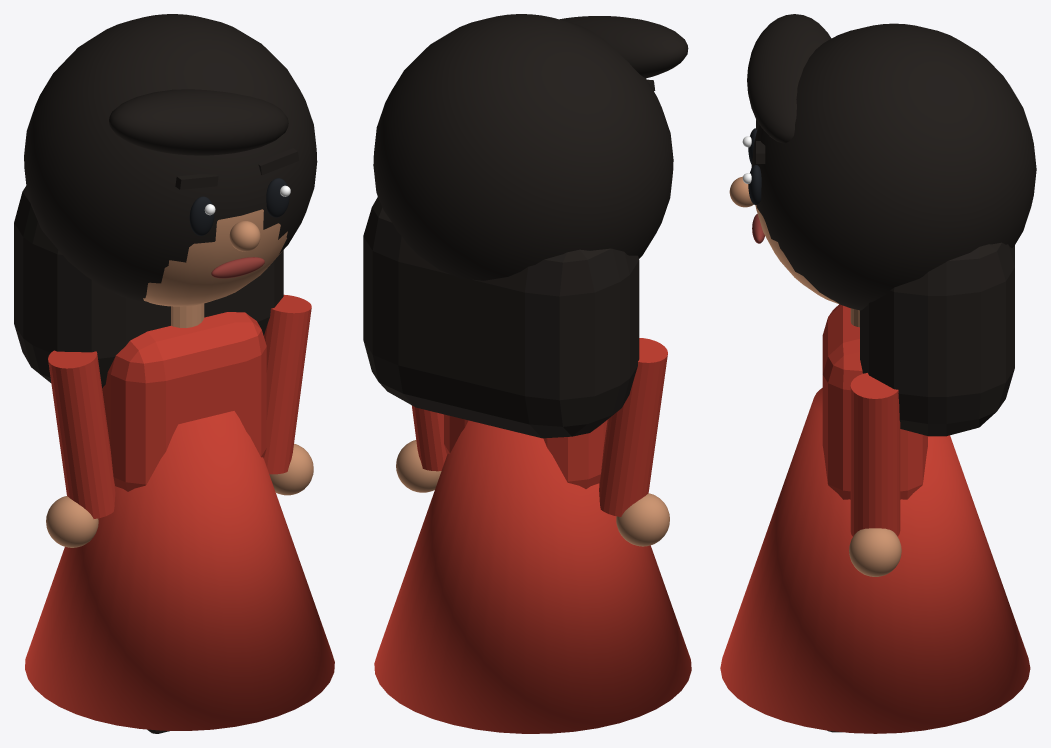
File: mujer_vestido_rojo.glb
3 views of the same model, side by side, from view 1: azimuth 30°, elevation 25°; view 2: azimuth 150°, elevation 25°; view 3: azimuth 270°, elevation 25° (orthographic). The views are drawn at different scales.
Visible parts, largest first — view 1: Cone, Sphere.011, Cube.002, Cube.005, Sphere.012, Cylinder.002, Cylinder.003, Sphere.002, Sphere, Sphere.001, Sphere.009, Sphere.010 (+5 smaller); view 2: Cone, Sphere.011, Cube.005, Cylinder.002, Sphere.012, Cube.002, Sphere, Cylinder.003, Sphere.001; view 3: Cone, Sphere.011, Cube.005, Cylinder.003, Cube.002, Sphere.012, Sphere.001, Sphere.002.
Boxes of the visible parts, x1,y1,x2,y2 form: Cone: (25,411,334,730); Sphere.011: (24,14,317,302); Cube.002: (102,312,266,491); Cube.005: (14,186,283,387); Sphere.012: (109,89,288,155); Cylinder.002: (48,350,115,518); Cylinder.003: (264,294,311,474); Sphere.002: (143,209,287,306); Sphere: (46,496,98,547); Sphere.001: (269,443,313,495); Sphere.009: (229,221,260,251); Sphere.010: (211,257,264,278); Cone: (374,420,691,733); Sphere.011: (373,14,673,280); Cube.005: (363,197,639,438); Cylinder.002: (599,338,667,516); Sphere.012: (560,16,688,78); Cube.002: (444,414,607,488); Sphere: (616,493,669,546); Cylinder.003: (411,405,446,471); Sphere.001: (396,440,441,492); Cone: (720,388,1030,733); Sphere.011: (751,23,1036,310); Cube.005: (860,242,1014,436); Cylinder.003: (850,373,900,536); Cube.002: (822,304,927,499); Sphere.012: (747,14,831,143); Sphere.001: (849,528,901,576); Sphere.002: (755,205,838,303).
Size of the model in its own units: 1 by 2.39 by 1.02.
